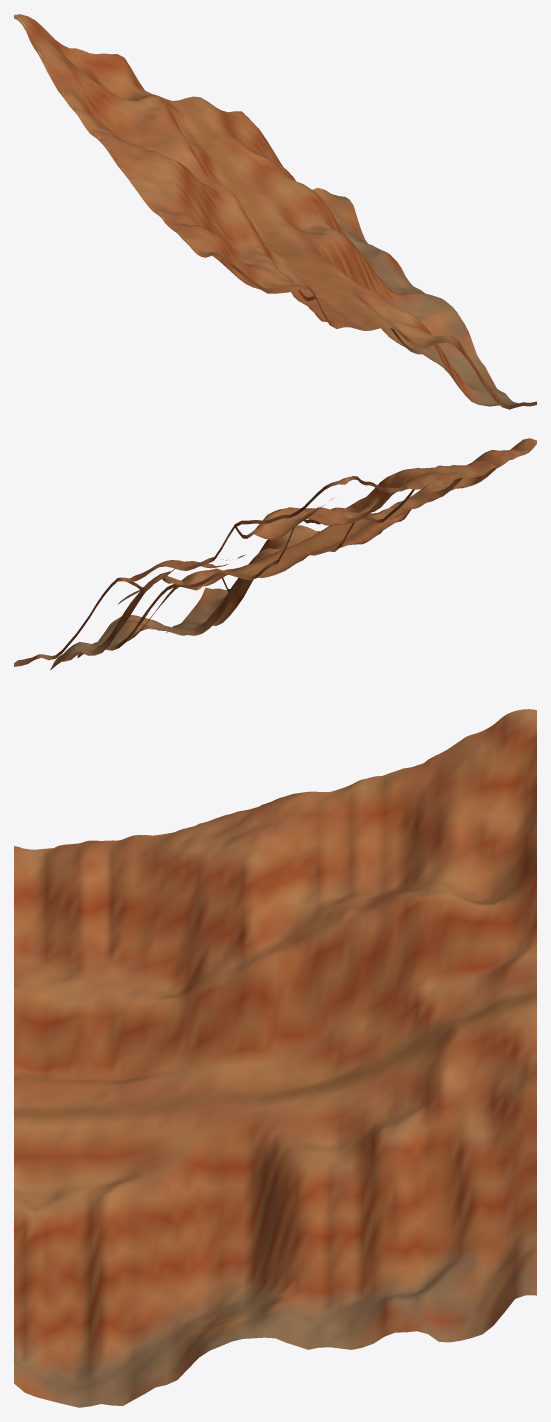
Rendered from terrain-056.glb.
The picture shows the model from 3 angles, top to bottom: view 1: azimuth 30°, elevation 25°; view 2: azimuth 150°, elevation 25°; view 3: azimuth 270°, elevation 25°; orthographic projection. The views are drawn at different scales.
Parts seen in each view (by area): view 1: terrain-056; view 2: terrain-056; view 3: terrain-056.
Boxes of the visible parts, <box> form: terrain-056: <box>14,14,536,409</box>; terrain-056: <box>14,438,536,670</box>; terrain-056: <box>14,709,536,1407</box>.
Bounding box in the file's own units: 384 × 387 × 384.
